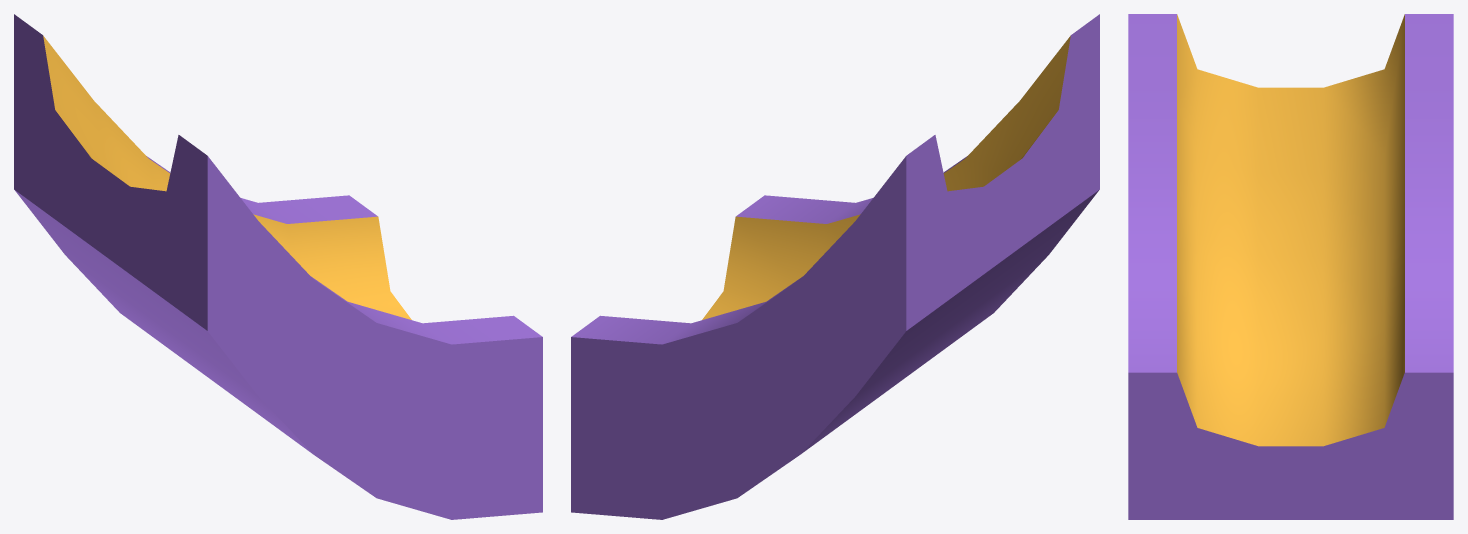
Rendered from ramp-start-d-col.glb.
The picture shows the model from 3 angles, left to right: view 1: azimuth 30°, elevation 25°; view 2: azimuth 150°, elevation 25°; view 3: azimuth 270°, elevation 25°; orthographic projection. The views are drawn at different scales.
Visible parts, largest first — view 1: ramp-start-d-col; view 2: ramp-start-d-col; view 3: ramp-start-d-col.
Boxes of the visible parts, bbox=[...] form: ramp-start-d-col: bbox=[14, 14, 542, 519]; ramp-start-d-col: bbox=[571, 14, 1099, 519]; ramp-start-d-col: bbox=[1128, 14, 1453, 519].
Size of the model in its own units: 1 by 1.25 by 1.
1 material, 1 textured.
